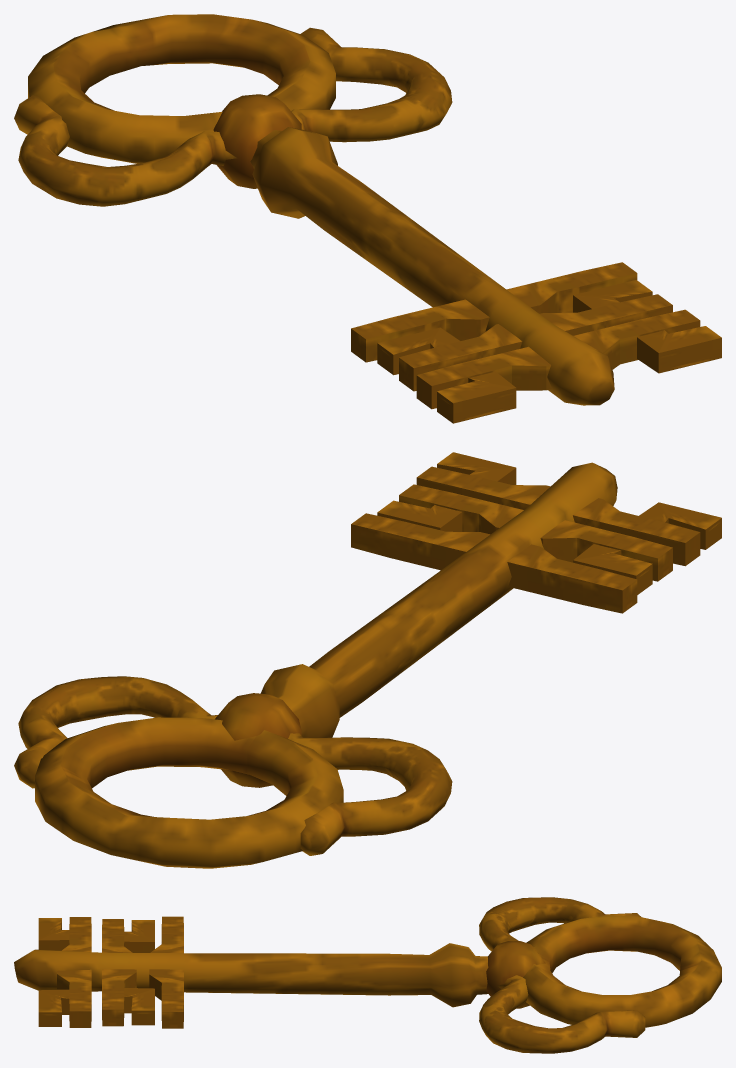
The model's file is key_gold.glb.
3 views of the same model, one above another, from view 1: azimuth 30°, elevation 25°; view 2: azimuth 150°, elevation 25°; view 3: azimuth 270°, elevation 25° (orthographic). The views are drawn at different scales.
Visible parts, largest first — view 1: Key_Gold; view 2: Key_Gold; view 3: Key_Gold.
Boxes of the visible parts, x1,y1,x2,y2 form: Key_Gold: (14, 14, 721, 423); Key_Gold: (14, 452, 721, 868); Key_Gold: (14, 897, 721, 1053).
Bounding box in the file's own units: 0.0581 × 0.0123 × 0.1223.
1 material, 1 textured.
